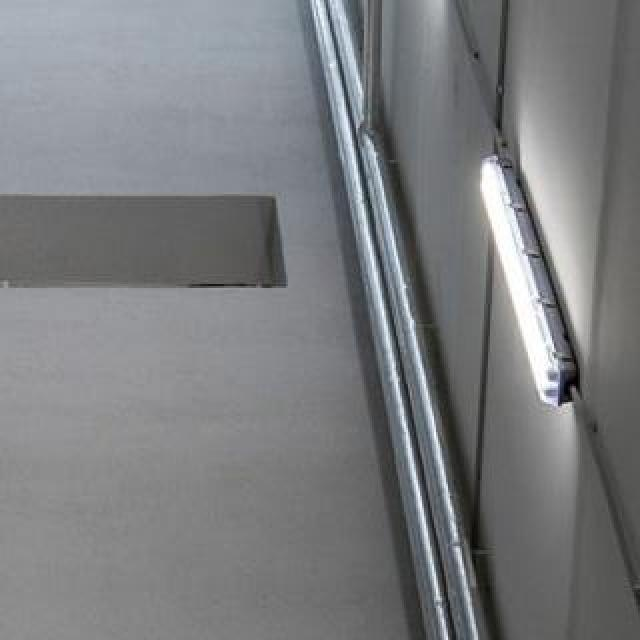fluorescent tube: (453, 129, 600, 427)
